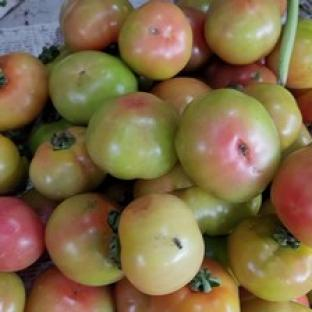Tomato: (176, 90, 279, 201), (119, 194, 204, 295), (87, 92, 178, 179), (228, 214, 311, 302), (45, 193, 123, 285), (115, 258, 239, 311), (49, 51, 137, 125), (119, 2, 193, 80), (30, 126, 105, 200), (173, 186, 261, 235), (271, 144, 311, 246), (243, 83, 302, 150), (26, 267, 115, 311), (0, 52, 48, 130), (0, 197, 44, 271), (27, 102, 73, 155), (151, 76, 211, 114), (180, 6, 213, 73), (204, 59, 277, 89), (133, 162, 193, 197), (286, 19, 311, 89), (0, 134, 29, 194), (21, 187, 59, 224), (0, 272, 26, 311), (283, 123, 311, 157), (241, 299, 310, 311), (296, 88, 311, 123)
